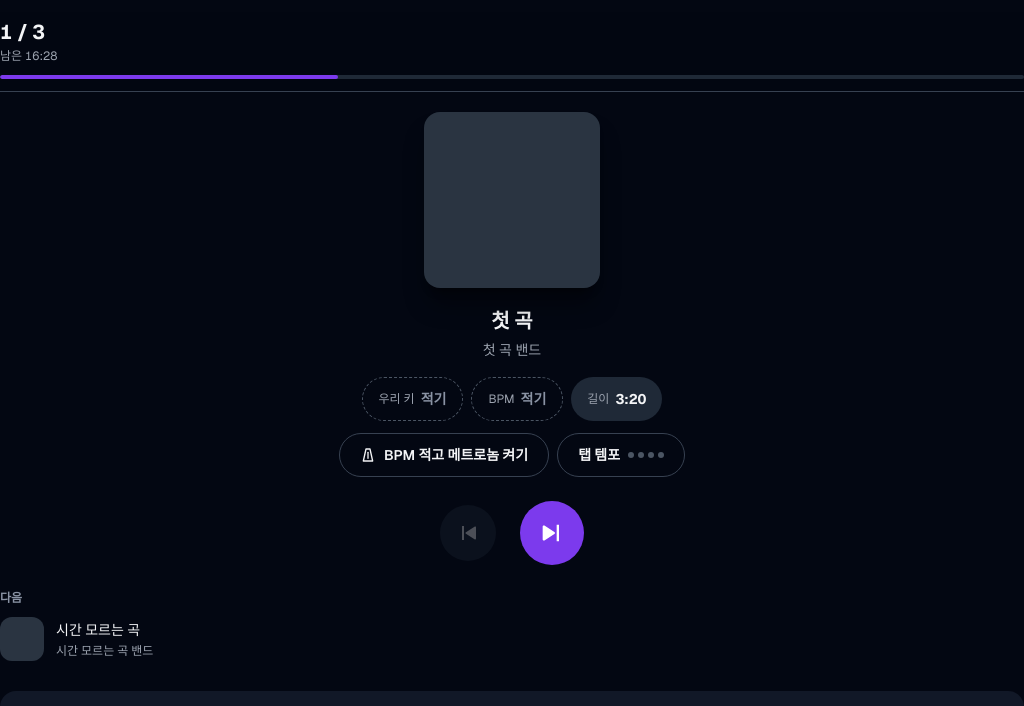
Test case: RehearsalView remaining time › keeps the interval and original between two songs in the next song's remaining time
Step 1. Click the button named "다음 곡" → (552, 533), box [520, 501, 584, 565]
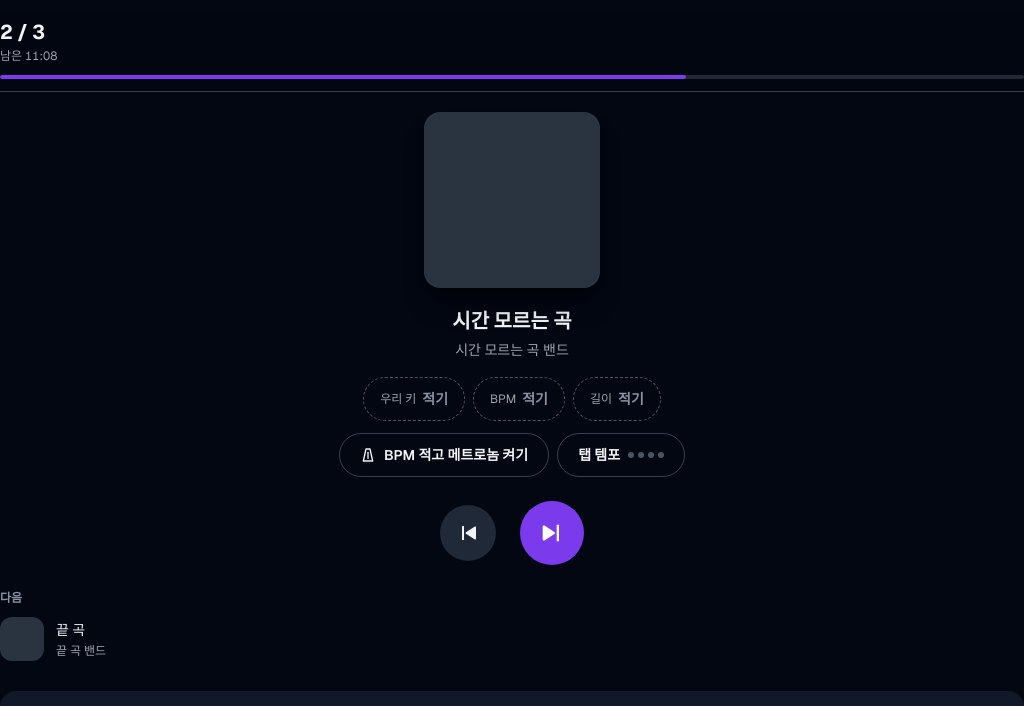
expect the text "남은 11:08" is shown: met, box [0, 47, 58, 66]
Step 2. Click the button named "다음 곡" → (552, 533), box [520, 501, 584, 565]
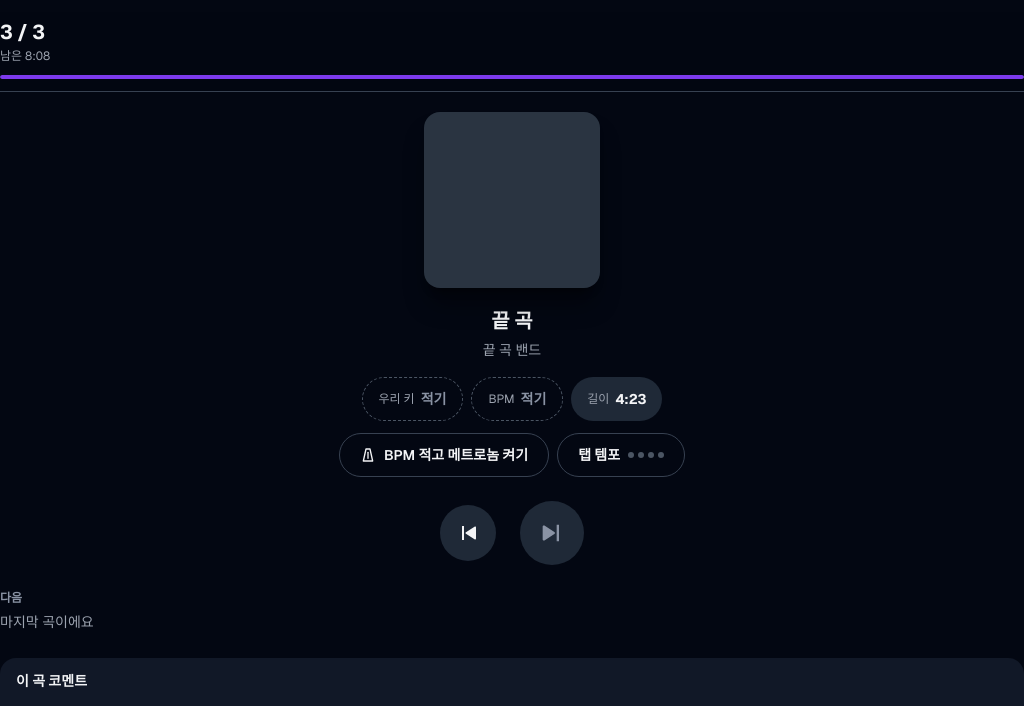
expect the text "남은 8:08" is shown: met, box [0, 47, 50, 66]
